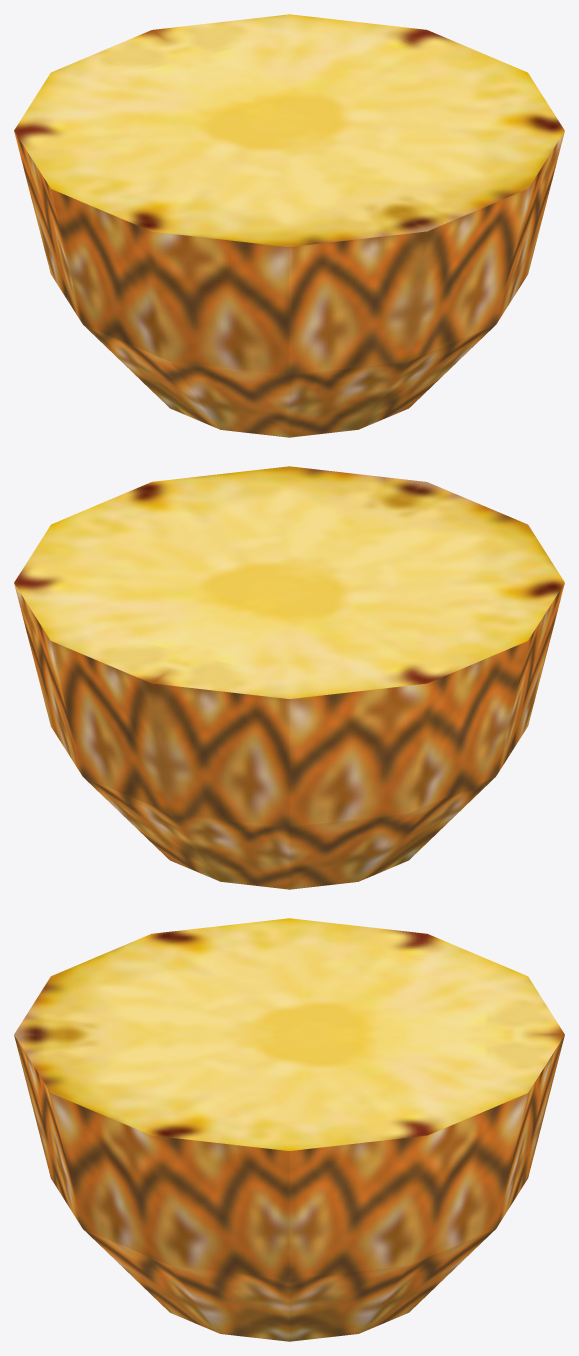
The model's file is pinapple_half.gltf.
3 renders of one model, top to bottom at view 1: azimuth 30°, elevation 25°; view 2: azimuth 150°, elevation 25°; view 3: azimuth 270°, elevation 25°, orthographic.
Visible parts, largest first — view 1: fruis_and_vegetables.012; view 2: fruis_and_vegetables.012; view 3: fruis_and_vegetables.012.
Part boxes in pixels (<box>): fruis_and_vegetables.012: <box>14,14,564,437</box>; fruis_and_vegetables.012: <box>14,466,564,889</box>; fruis_and_vegetables.012: <box>14,918,564,1341</box>.
Size of the model in its own units: 0.2196 by 0.1168 by 0.2196.
Materials: 1 (1 with a texture image).
